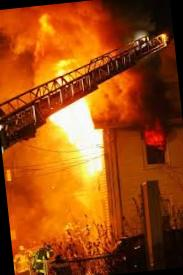Fire: (36, 44, 116, 180)
Smoke: (7, 0, 174, 128)
